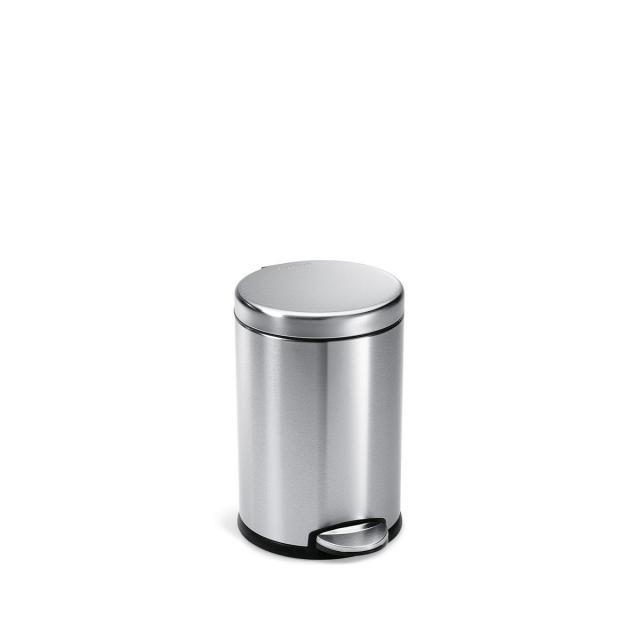Dumpster: (237, 255, 406, 566)
